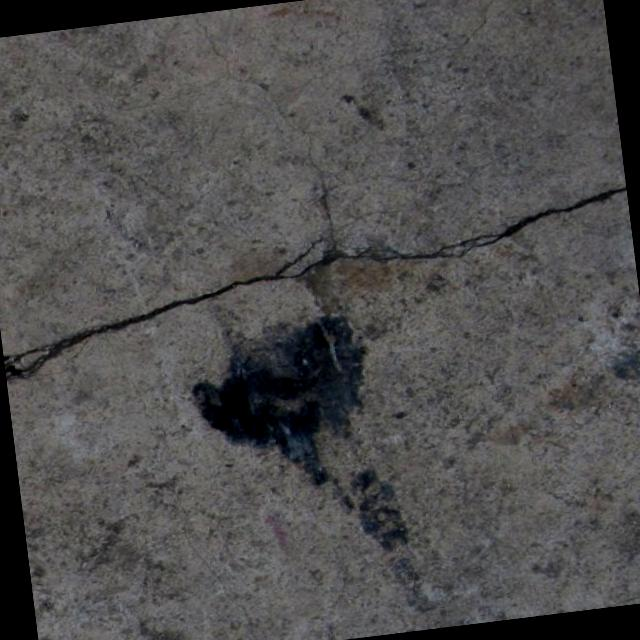crack: (0, 174, 636, 382)
